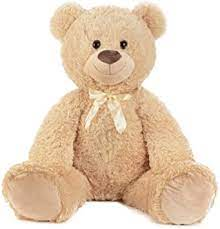teddy: (4, 1, 217, 227)
